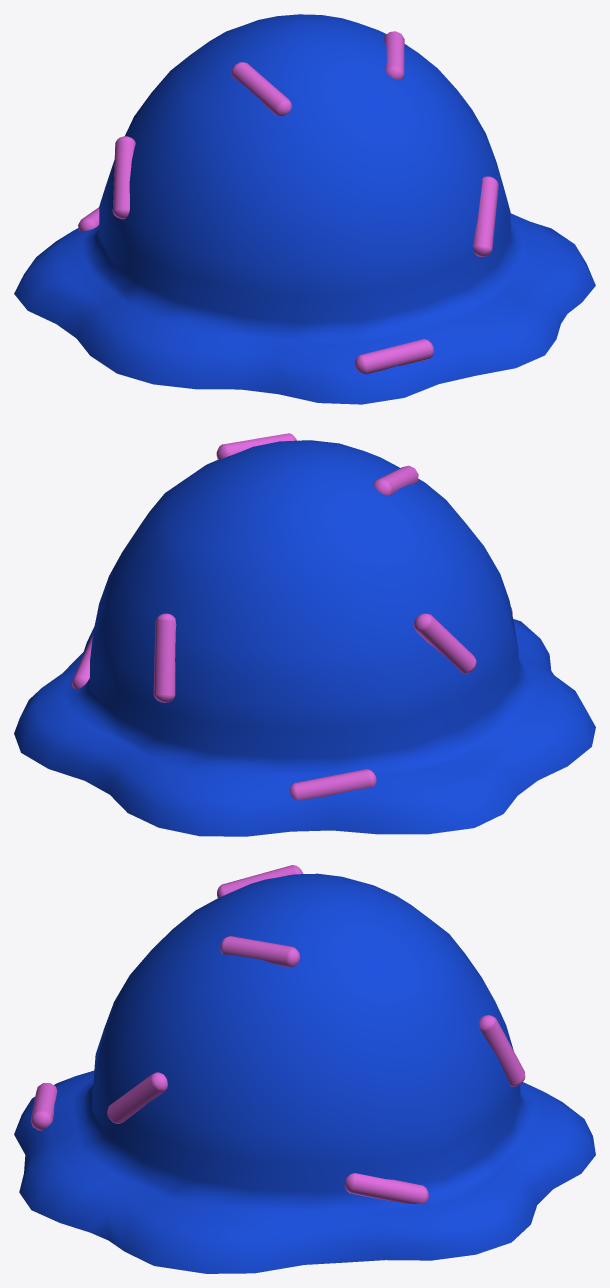
Rendered from SM_Icecream_Ball.fbx.
3 views of the same model, one above another, from view 1: azimuth 30°, elevation 25°; view 2: azimuth 150°, elevation 25°; view 3: azimuth 270°, elevation 25° (orthographic). The views are drawn at different scales.
Visible parts, largest first — view 1: SM_Icecream_Ball; view 2: SM_Icecream_Ball; view 3: SM_Icecream_Ball.
Part boxes in pixels (x1,y1,x2,y2): SM_Icecream_Ball: [14, 14, 595, 404]; SM_Icecream_Ball: [14, 433, 595, 836]; SM_Icecream_Ball: [14, 865, 595, 1273].
Bounding box in the file's own units: 11.36 × 5.86 × 11.75.
